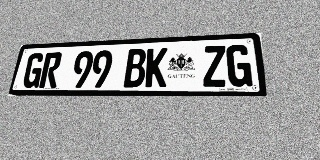9: (90, 50, 113, 88), (71, 51, 94, 88)
B: (123, 49, 147, 87)
G: (226, 44, 253, 87), (21, 53, 46, 88)
K: (145, 48, 168, 87)
R: (39, 52, 63, 88)
Z: (203, 45, 227, 87)
